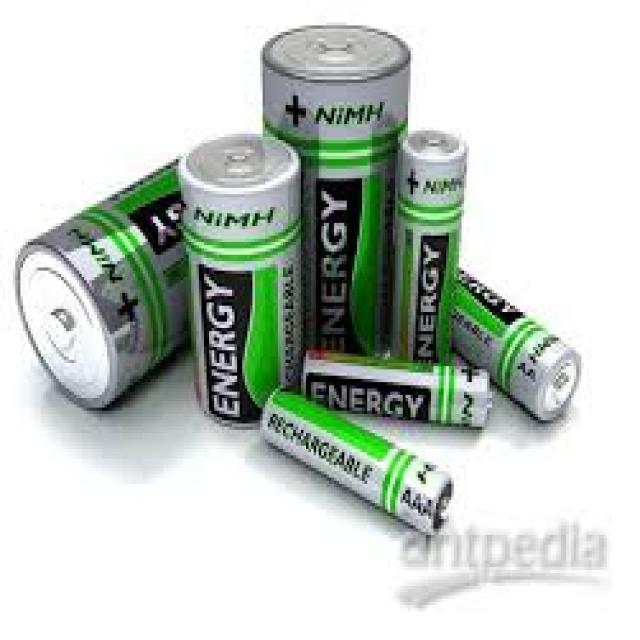non-organic waste: (262, 26, 411, 355), (16, 154, 194, 420), (179, 130, 302, 433), (259, 379, 456, 544), (455, 261, 586, 431), (390, 128, 467, 362), (301, 346, 495, 434)
